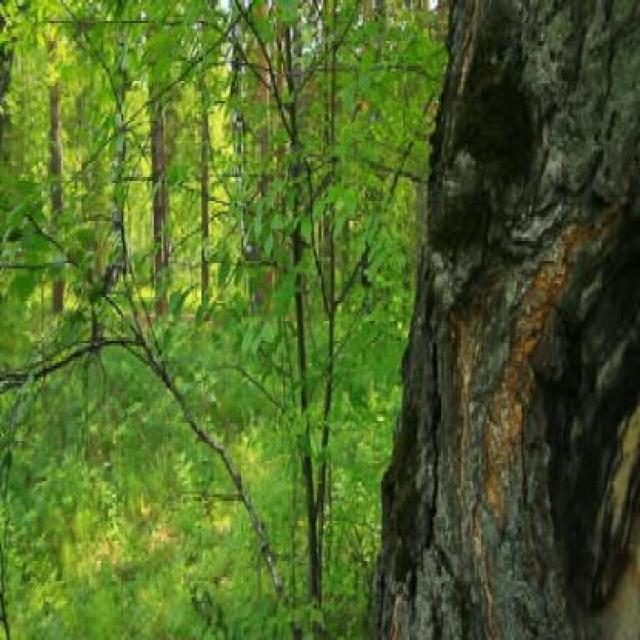garbage: (197, 37, 288, 340)
